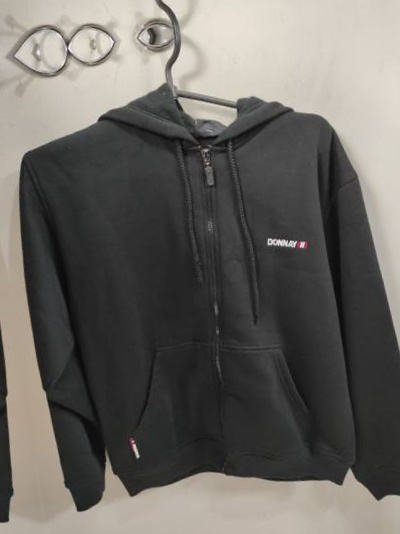Hoodie: (0, 50, 400, 534), (0, 109, 40, 534), (0, 0, 371, 13), (395, 0, 400, 515)
